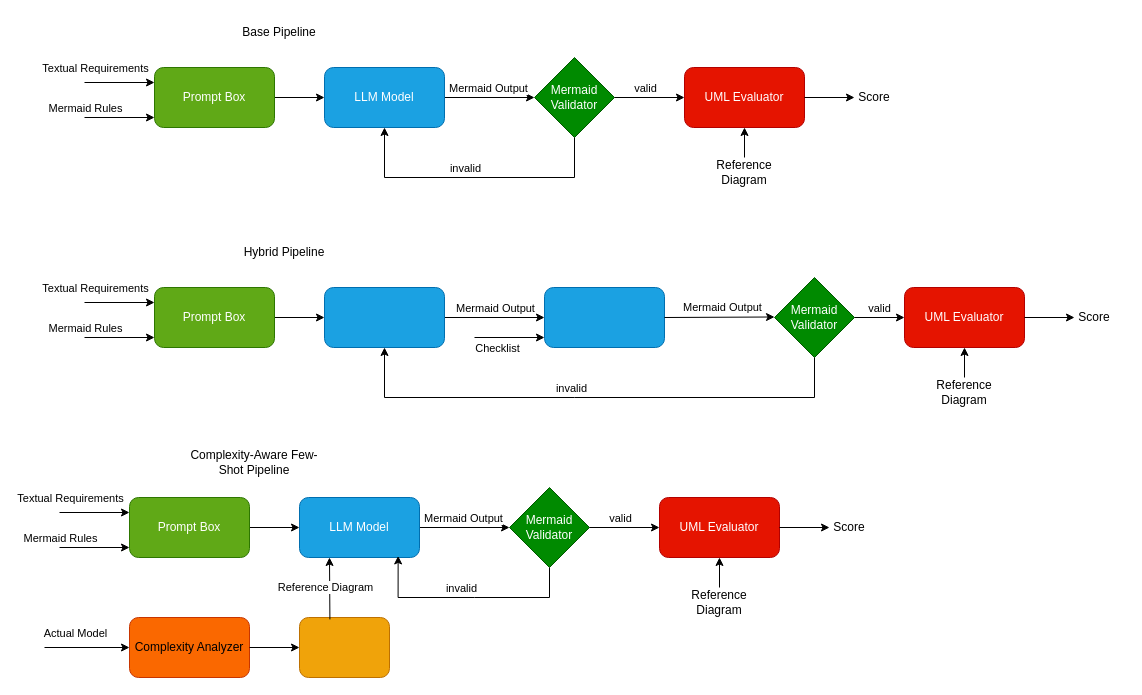
Some shapes in this 1142 by 695 pixel diagram are drawn without their labels. The centre of each missing label's shape, as x and y in pixels:
Examplar Pool: the point at 344,647
LLM Model Generator: the point at 384,317
LLM Model Reviewer: the point at 604,317
